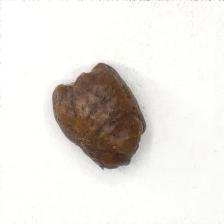NG: (52, 62, 103, 92)
